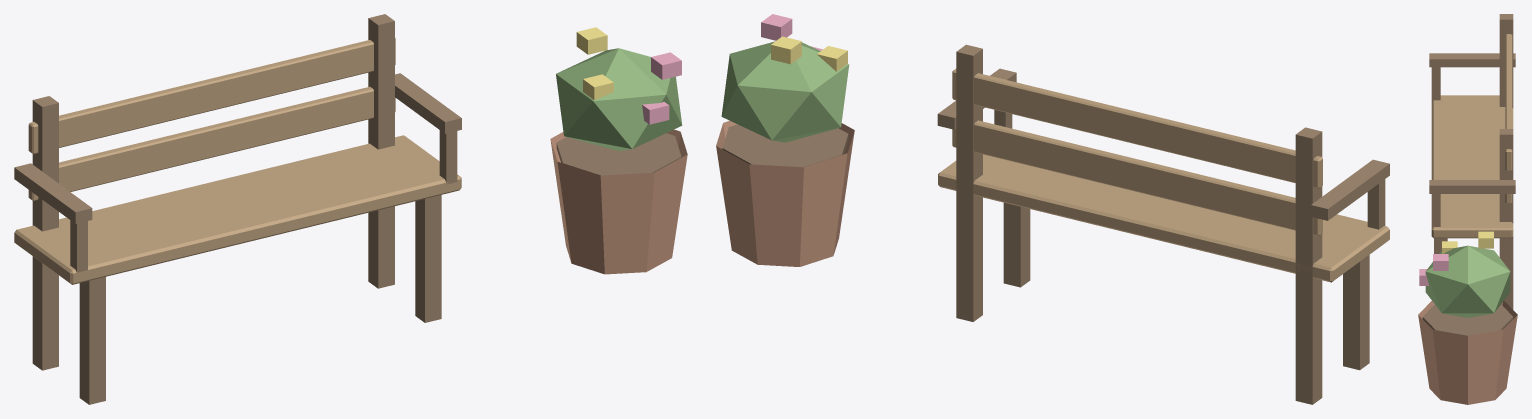
The model's file is door-bench.glb.
3 views of the same model, side by side, from view 1: azimuth 30°, elevation 25°; view 2: azimuth 150°, elevation 25°; view 3: azimuth 270°, elevation 25° (orthographic). The views are drawn at different scales.
Parts seen in each view (by area): view 1: door-bench; view 2: door-bench; view 3: door-bench.
Part boxes in pixels (left/top/right/bottom): door-bench: left=14, top=14, right=687, bottom=404; door-bench: left=716, top=14, right=1389, bottom=404; door-bench: left=1418, top=14, right=1517, bottom=404.
Size of the model in its own units: 2.27 by 0.9 by 0.44.
